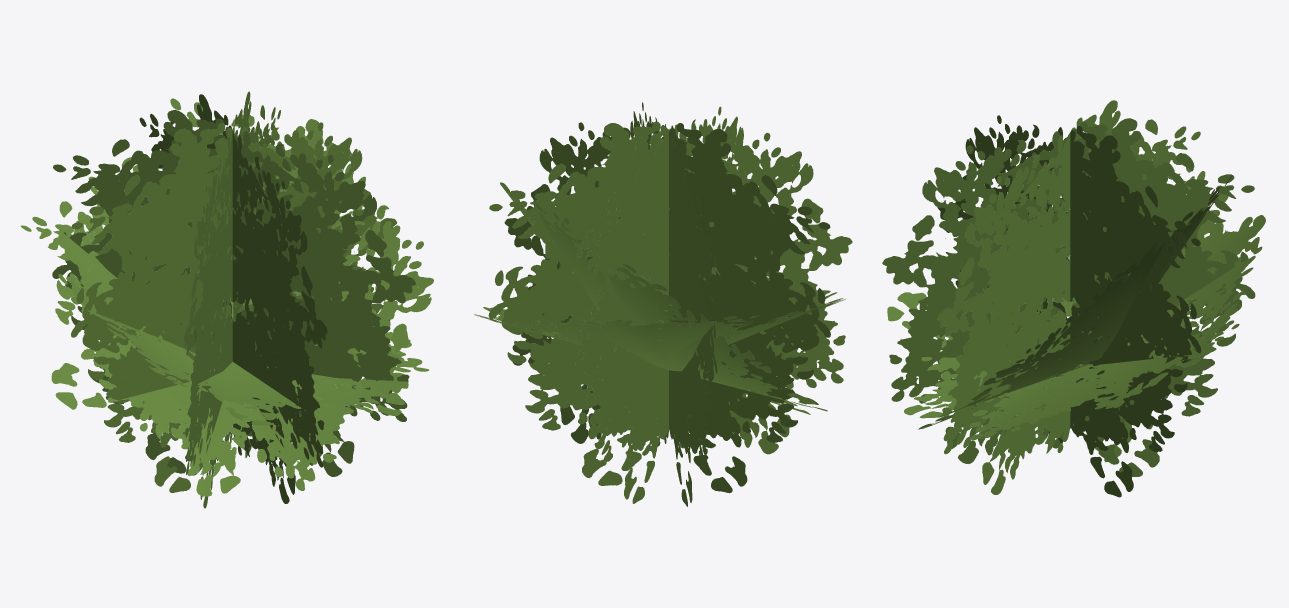
Rendered from greenBush_2.fbx.
The picture shows the model from 3 angles, left to right: view 1: azimuth 30°, elevation 25°; view 2: azimuth 150°, elevation 25°; view 3: azimuth 270°, elevation 25°; orthographic projection.
Visible parts, largest first — view 1: greenBush_2; view 2: greenBush_2; view 3: greenBush_2.
Part boxes in pixels (bbox=[...]): greenBush_2: bbox=[21, 91, 433, 508]; greenBush_2: bbox=[474, 102, 852, 506]; greenBush_2: bbox=[882, 100, 1265, 497].
Bounding box in the file's own units: 2.33 × 2.71 × 2.29.
